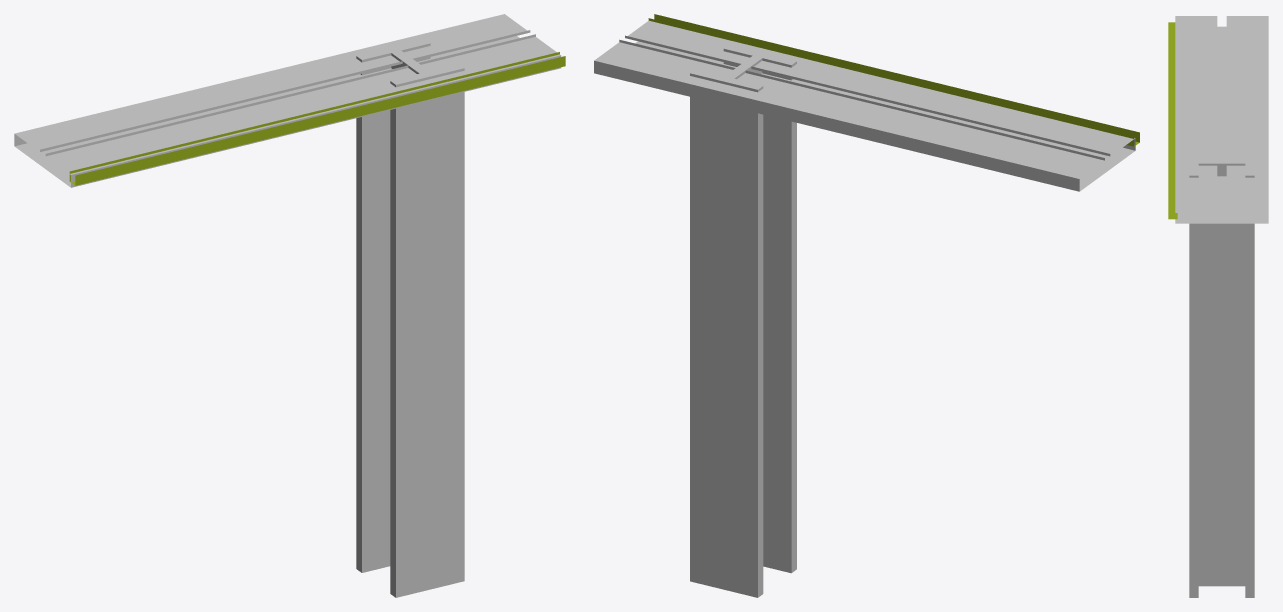
The model's file is cell_31.obj.
3 renders of one model, left to right at view 1: azimuth 30°, elevation 25°; view 2: azimuth 150°, elevation 25°; view 3: azimuth 270°, elevation 25°, orthographic. The views are drawn at different scales.
Bounding box in the file's own units: 1 × 1 × 0.215.
